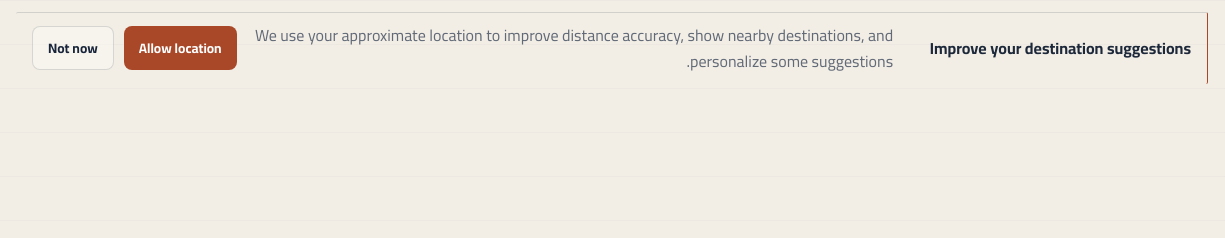
Test: Phase 12/Workstream C — LocationIntro › shows stage outcomes without coordinates only when safe location debugging is requested
This screenshot has width=1225, height=238.
Click the button "Allow location".
click(180, 48)  # box [124,26,237,70]
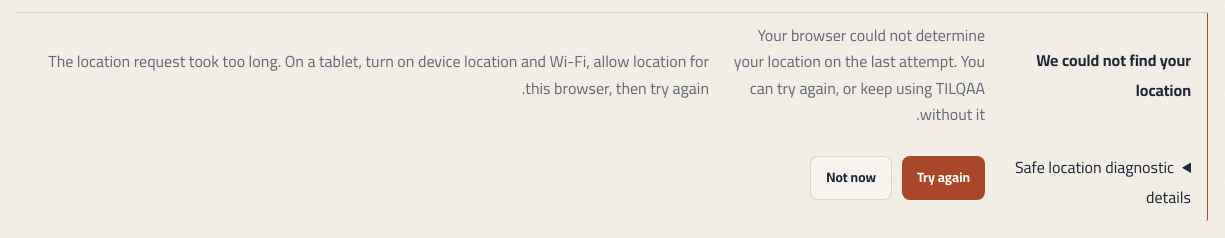
Now the heading "Safe location diagnostic details" is shown, box [1001,152,1191,212]
